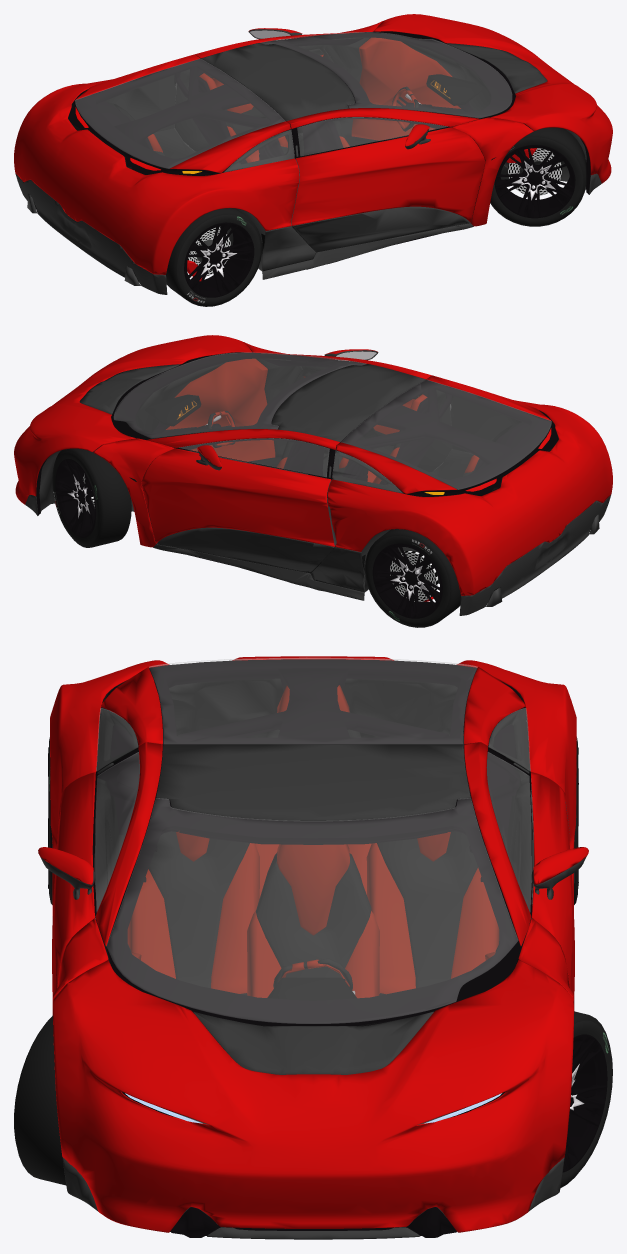
File: ag_aurelia.glb
3 renders of one model, top to bottom at view 1: azimuth 30°, elevation 25°; view 2: azimuth 150°, elevation 25°; view 3: azimuth 270°, elevation 25°, orthographic. The views are drawn at different scales.
Visible parts, largest first — view 1: BodyRearPanelsColor1, BodyWindshield, BodyRoofPanel, BodyWindshieldGasket, InteriorDashSides, InteriorDashMid, WheelFrontRRim, WheelRearRRim, wheel_RR, wheel_FR, InteriorMid, BodyUnderside (+2 smaller); view 2: BodyRearPanelsColor1, BodyWindshield, BodyRoofPanel, BodyWindshieldGasket, InteriorDashSides, InteriorDashMid, wheel_FL, WheelRearLRim, wheel_RL, WheelFrontLRim, InteriorMid, BodyUnderside (+2 smaller); view 3: BodyRearPanelsColor1, BodyWindshield, BodyWindshieldGasket, BodyRoofPanel, InteriorDashSides, InteriorSeatsColor2, InteriorDashMid, wheel_FR, WheelFrontLRim, InteriorSteeringDash, wheel_FL.
Part boxes in pixels (x1,y1,x2,y2): BodyRearPanelsColor1: [14, 14, 612, 274]; BodyWindshield: [75, 32, 511, 171]; BodyRoofPanel: [15, 29, 601, 294]; BodyWindshieldGasket: [31, 31, 590, 273]; InteriorDashSides: [147, 37, 460, 220]; InteriorDashMid: [29, 41, 509, 282]; WheelFrontRRim: [494, 145, 575, 218]; WheelRearRRim: [184, 222, 254, 297]; wheel_RR: [166, 208, 261, 306]; wheel_FR: [490, 127, 586, 226]; InteriorMid: [153, 25, 495, 271]; BodyUnderside: [27, 83, 586, 285]; BodyRearPanelsColor1: [14, 335, 612, 595]; BodyWindshield: [114, 352, 551, 492]; BodyRoofPanel: [25, 350, 611, 615]; BodyWindshieldGasket: [36, 352, 591, 589]; InteriorDashSides: [166, 358, 479, 490]; InteriorDashMid: [117, 362, 591, 601]; wheel_FL: [52, 448, 131, 547]; WheelRearLRim: [372, 543, 442, 618]; wheel_RL: [364, 529, 460, 627]; WheelFrontLRim: [55, 459, 96, 537]; InteriorMid: [129, 349, 473, 591]; BodyUnderside: [39, 369, 599, 606]; BodyRearPanelsColor1: [38, 656, 588, 1232]; BodyWindshield: [94, 657, 533, 1023]; BodyWindshieldGasket: [93, 659, 533, 1237]; BodyRoofPanel: [40, 744, 586, 1239]; InteriorDashSides: [127, 685, 499, 998]; InteriorSeatsColor2: [148, 712, 477, 995]; InteriorDashMid: [92, 678, 534, 1026]; wheel_FR: [14, 1015, 66, 1185]; WheelFrontLRim: [562, 1034, 607, 1172]; InteriorSteeringDash: [267, 977, 356, 1000]; wheel_FL: [560, 1011, 612, 1188].
Size of the model in its own units: 4.36 by 1.15 by 2.54.
Materials: 22 (5 with a texture image).
